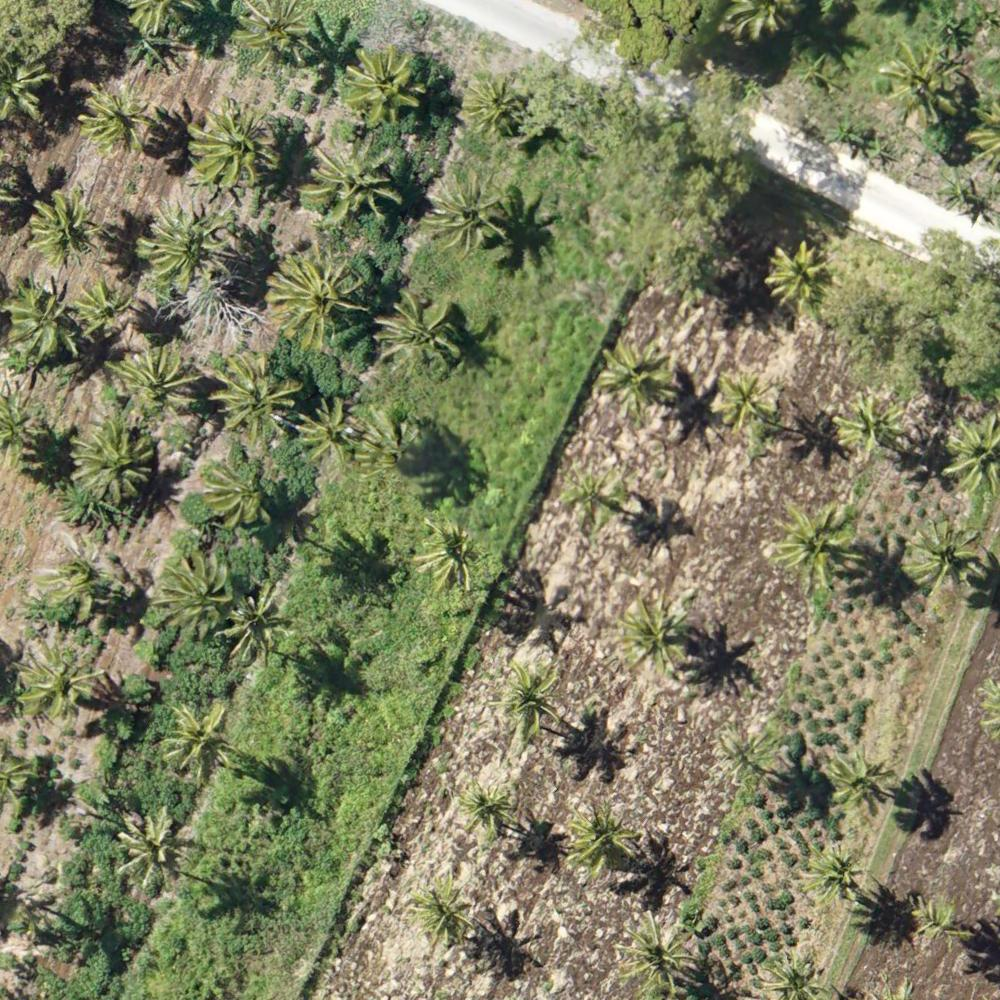Palm: (265, 247, 355, 349), (141, 202, 236, 290), (308, 143, 399, 232), (187, 105, 276, 191), (345, 42, 431, 127), (613, 910, 698, 994), (880, 44, 967, 125), (774, 499, 855, 582), (376, 290, 455, 373), (214, 352, 292, 431), (595, 341, 679, 414), (158, 557, 238, 632), (213, 591, 292, 666), (17, 648, 97, 722), (111, 346, 193, 418), (424, 174, 504, 247), (8, 280, 78, 362), (615, 594, 686, 674), (73, 426, 149, 500), (231, 1, 317, 66), (904, 518, 981, 589), (200, 456, 276, 525), (834, 394, 907, 464), (496, 658, 563, 733), (165, 705, 235, 776), (81, 86, 152, 155), (713, 722, 781, 793), (567, 800, 633, 872), (28, 194, 95, 261), (940, 414, 1000, 488), (118, 817, 186, 882), (767, 243, 832, 308), (825, 746, 889, 812), (714, 366, 778, 432), (297, 398, 358, 466), (412, 876, 474, 940), (461, 74, 526, 135), (907, 892, 968, 955), (806, 839, 869, 900), (564, 465, 625, 528), (456, 780, 517, 836), (78, 283, 132, 338), (765, 950, 822, 1000)
